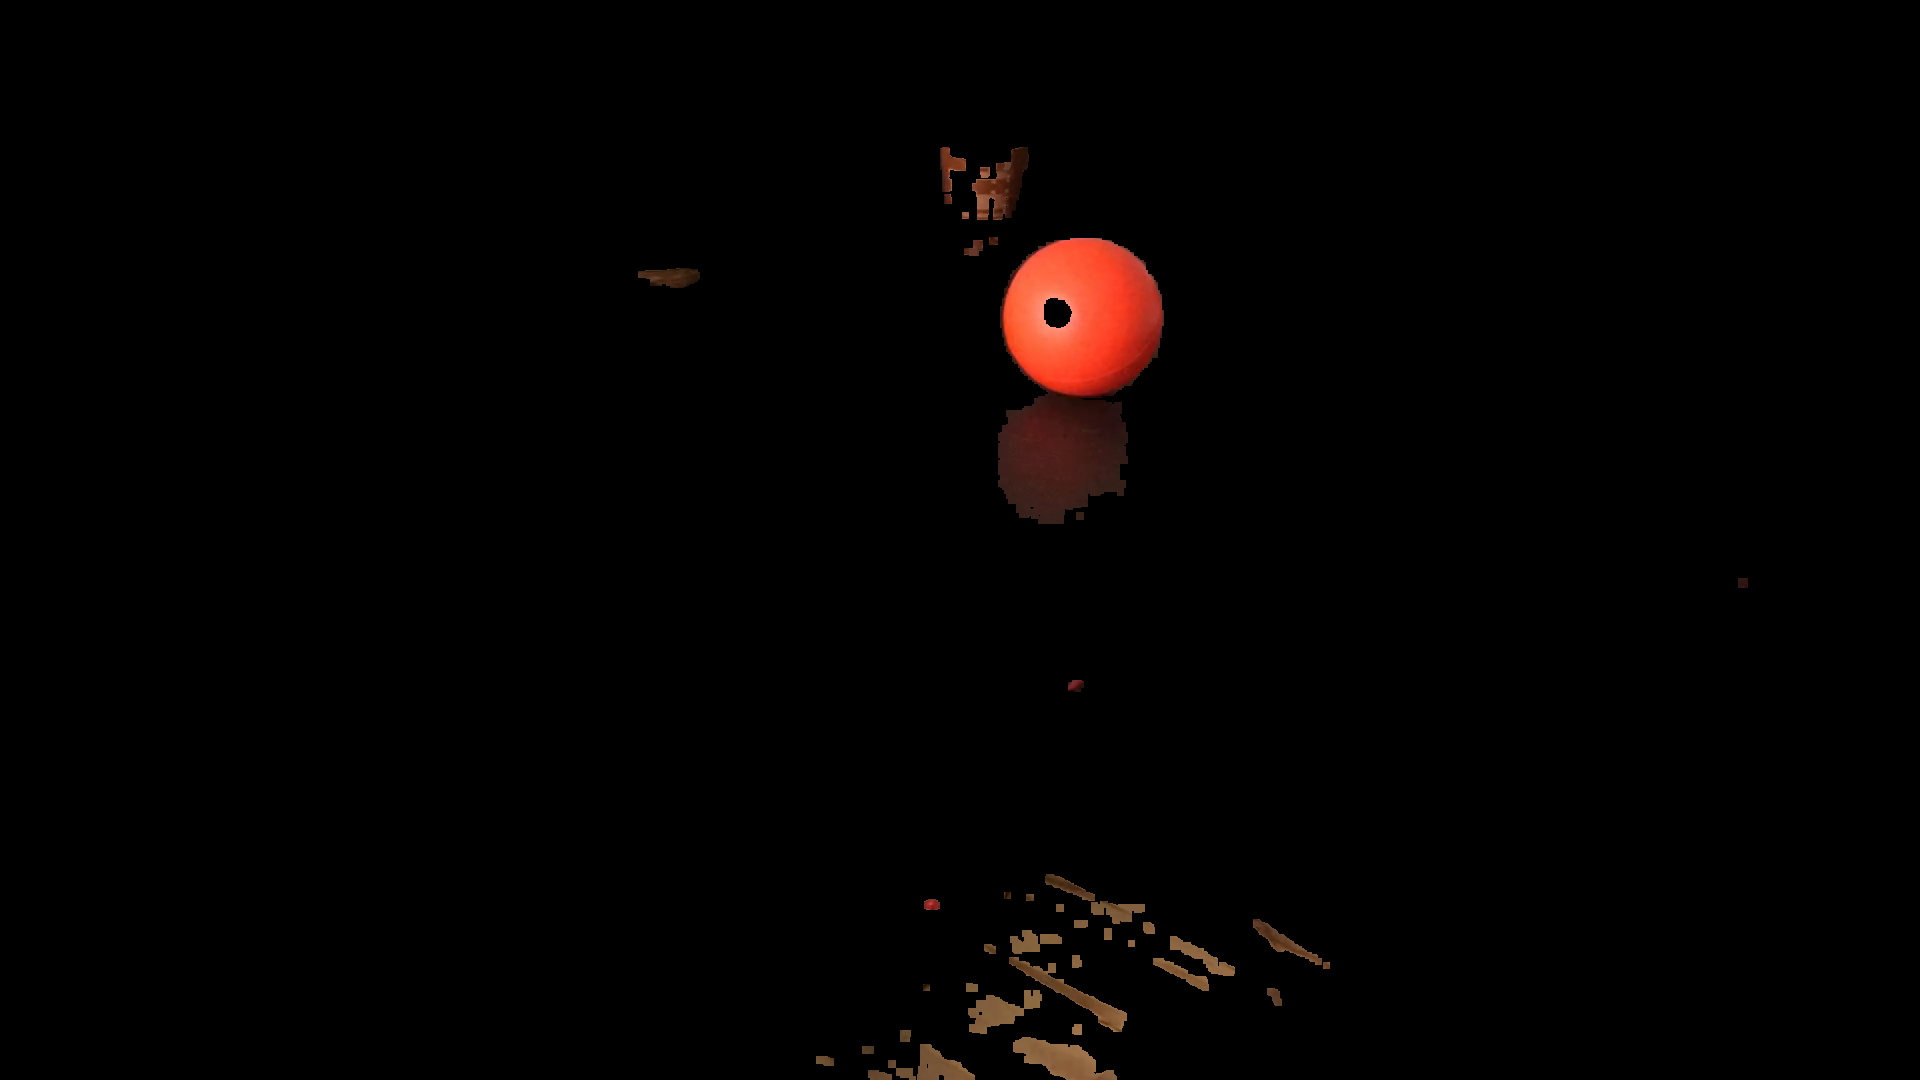Ball: (988, 233, 1171, 409)
